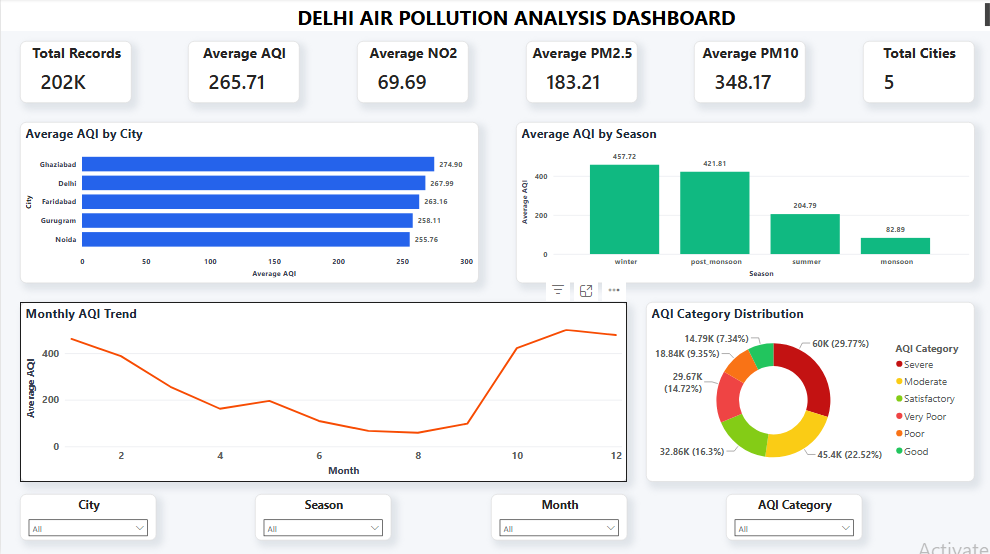

This screenshot's page, from the dashboard's own definition file:
{"tool":"powerbi","page":{"name":"Page 1","canvas":[1600,900],"ordinal":0},"visuals":[{"type":"textbox","box":[0,3.2,1600,50],"z":0},{"type":"cardVisual","title":"Total Records","fields":{"Data":["delhi_air_pollution_cleaned.Total Records"]},"box":[30,70,180.3,100.5],"z":1000},{"type":"cardVisual","title":"Average AQI","fields":{"Data":["Avg(delhi_air_pollution_cleaned.aqi)"]},"box":[302,70,180.3,100.5],"z":2000},{"type":"cardVisual","title":"Average PM2.5","fields":{"Data":["Avg(delhi_air_pollution_cleaned.pm25)"]},"box":[846,70,180.3,100.5],"z":3000},{"type":"cardVisual","title":"Average PM10","fields":{"Data":["Avg(delhi_air_pollution_cleaned.pm10)"]},"box":[1118,70,180.3,100.5],"z":4000},{"type":"cardVisual","title":"Average NO2","fields":{"Data":["Avg(delhi_air_pollution_cleaned.no2)"]},"box":[574,70,180.3,100.5],"z":5000},{"type":"cardVisual","title":"Total Cities ","fields":{"Data":["Count(delhi_air_pollution_cleaned.city)"]},"box":[1390,70,180.3,100.5],"z":6000},{"type":"clusteredBarChart","fields":{"Category":["delhi_air_pollution_cleaned.city"],"Y":["Avg(delhi_air_pollution_cleaned.aqi)"]},"box":[30,200,740,260],"z":7000},{"type":"clusteredColumnChart","fields":{"Category":["delhi_air_pollution_cleaned.season"],"Y":["Avg(delhi_air_pollution_cleaned.aqi)"]},"box":[830,200,740,260],"z":8000},{"type":"lineChart","title":"Monthly AQI Trend","fields":{"Category":["delhi_air_pollution_cleaned.month"],"Y":["Avg(delhi_air_pollution_cleaned.aqi)"]},"box":[30,490,980,290],"z":9000},{"type":"donutChart","title":"AQI Category Distribution ","fields":{"Category":["delhi_air_pollution_cleaned.aqi_category"],"Y":["CountNonNull(delhi_air_pollution_cleaned.aqi)"]},"box":[1040,490,530,290],"z":10000},{"type":"slicer","title":"City","fields":{"Values":["delhi_air_pollution_cleaned.city"]},"box":[30,800,220,75],"z":10001},{"type":"slicer","title":"Season","fields":{"Values":["delhi_air_pollution_cleaned.season"]},"box":[410,800,220,75],"z":10002},{"type":"slicer","title":"Month","fields":{"Values":["delhi_air_pollution_cleaned.month"]},"box":[790,800,220,75],"z":10003},{"type":"slicer","title":"AQI Category","fields":{"Values":["delhi_air_pollution_cleaned.aqi_category"]},"box":[1170,800,220,75],"z":10004}]}

Visuals, with their boxes in screenshot pixels (x1, y1, x2, y2), scaled from the page's 1600x900 canvas onto the 990x554 screenshot:
textbox: <bbox>0, 2, 989, 33</bbox>
"Total Records" cardVisual: <bbox>19, 43, 130, 105</bbox>
"Average AQI" cardVisual: <bbox>187, 43, 298, 105</bbox>
"Average PM2.5" cardVisual: <bbox>523, 43, 635, 105</bbox>
"Average PM10" cardVisual: <bbox>692, 43, 803, 105</bbox>
"Average NO2" cardVisual: <bbox>355, 43, 467, 105</bbox>
"Total Cities " cardVisual: <bbox>860, 43, 972, 105</bbox>
clusteredBarChart - delhi_air_pollution_cleaned.city x Avg(delhi_air_pollution_cleaned.aqi): <bbox>19, 123, 476, 283</bbox>
clusteredColumnChart - delhi_air_pollution_cleaned.season x Avg(delhi_air_pollution_cleaned.aqi): <bbox>514, 123, 971, 283</bbox>
"Monthly AQI Trend" lineChart: <bbox>19, 302, 625, 480</bbox>
"AQI Category Distribution " donutChart: <bbox>644, 302, 971, 480</bbox>
"City" slicer: <bbox>19, 492, 155, 539</bbox>
"Season" slicer: <bbox>254, 492, 390, 539</bbox>
"Month" slicer: <bbox>489, 492, 625, 539</bbox>
"AQI Category" slicer: <bbox>724, 492, 860, 539</bbox>
